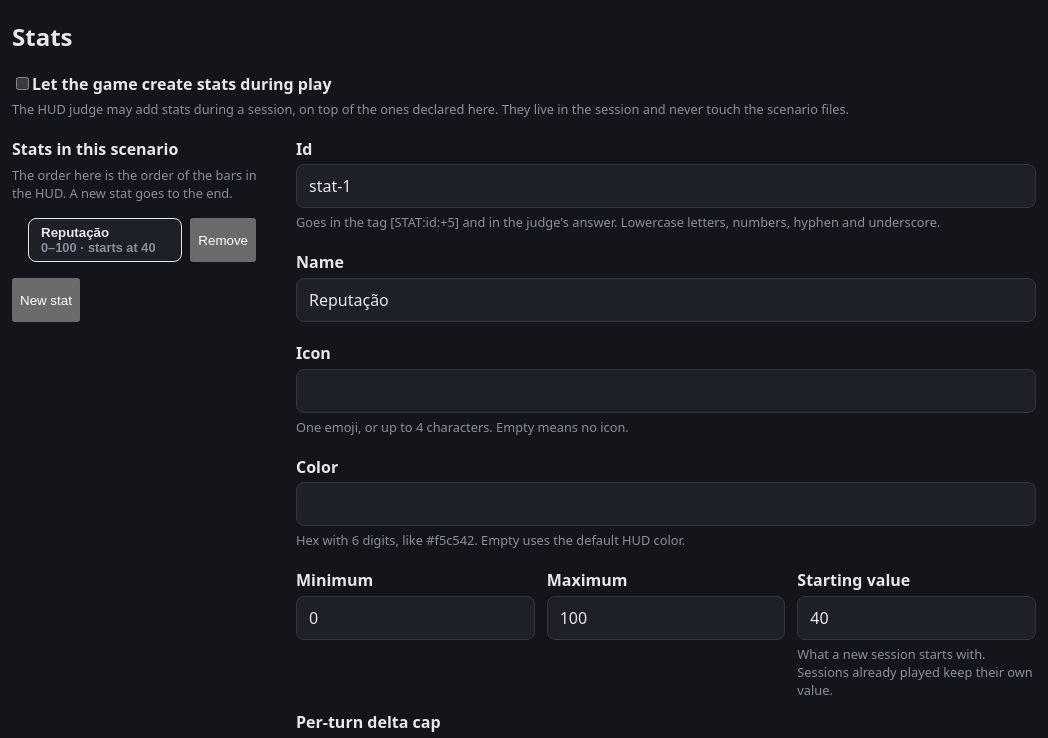
Scenario: StatsTab › removes the only stat and moves focus to the create button
Click the button "Remove": (223, 240) [190,218,256,262]
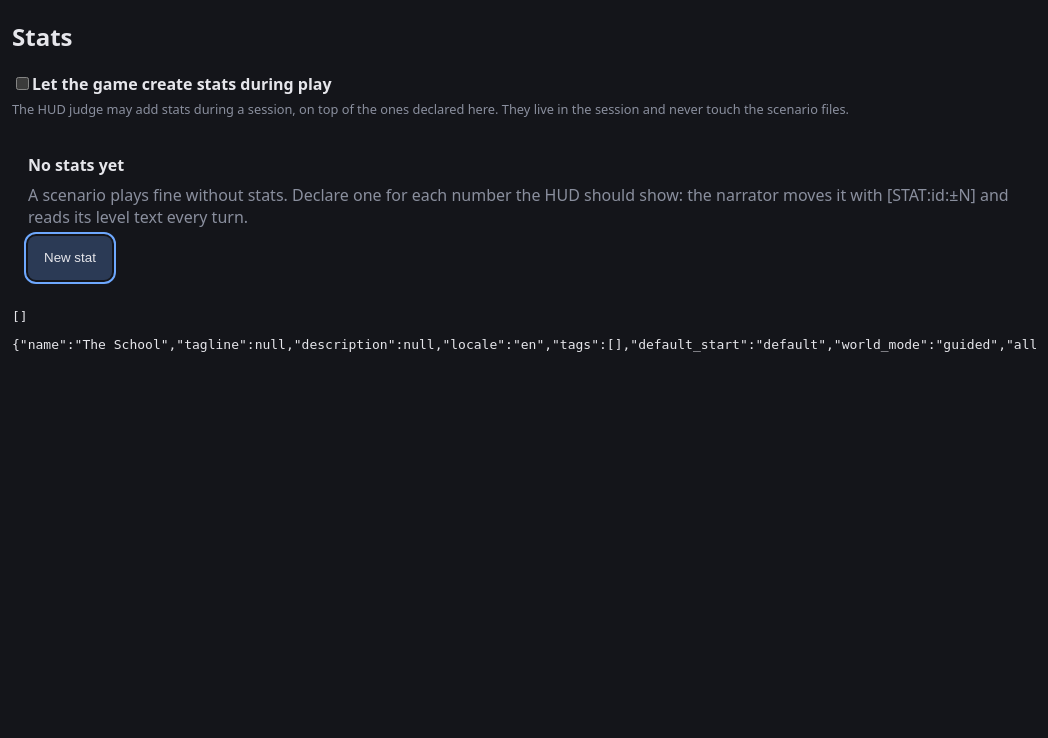
Expected: the text "No stats yet" is shown, [28,154,124,176]
